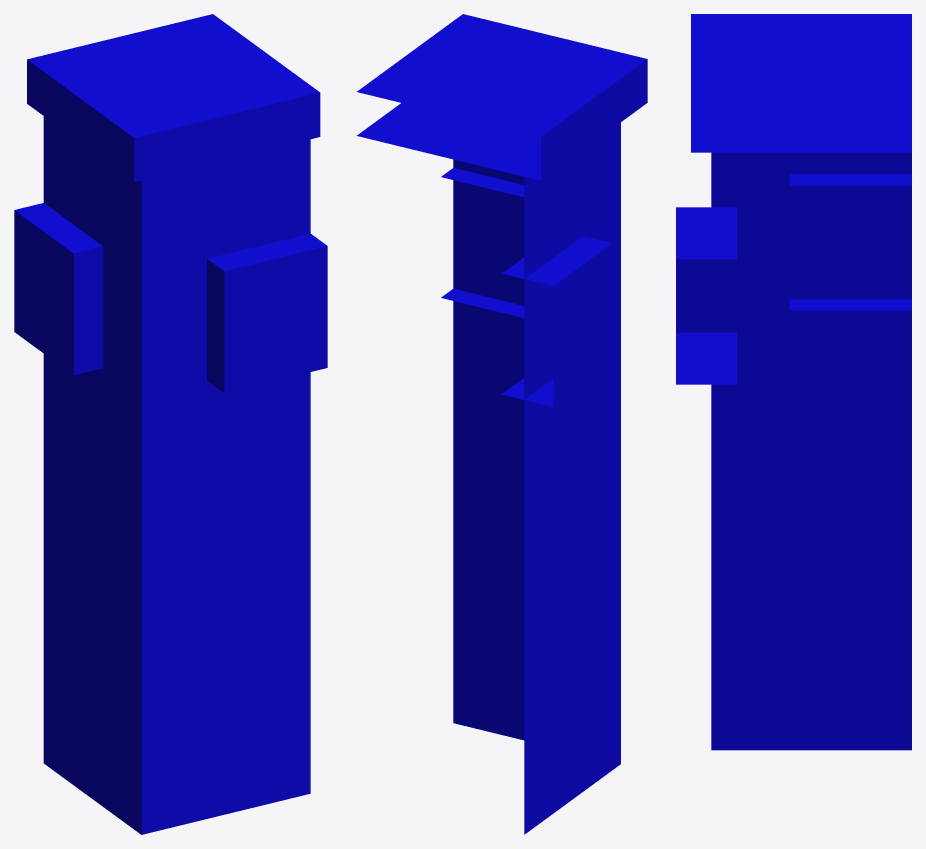
File: SM_town_BD_1Fside.fbx
3 renders of one model, left to right at view 1: azimuth 30°, elevation 25°; view 2: azimuth 150°, elevation 25°; view 3: azimuth 270°, elevation 25°, orthographic. The views are drawn at different scales.
Visible parts, largest first — view 1: 1F_window_side_low.006; view 2: 1F_window_side_low.006; view 3: 1F_window_side_low.006.
Part boxes in pixels (x1,y1,x2,y2): 1F_window_side_low.006: [14, 14, 327, 834]; 1F_window_side_low.006: [357, 14, 647, 834]; 1F_window_side_low.006: [676, 14, 911, 750].
Bounding box in the file's own units: 47 × 160 × 47.
